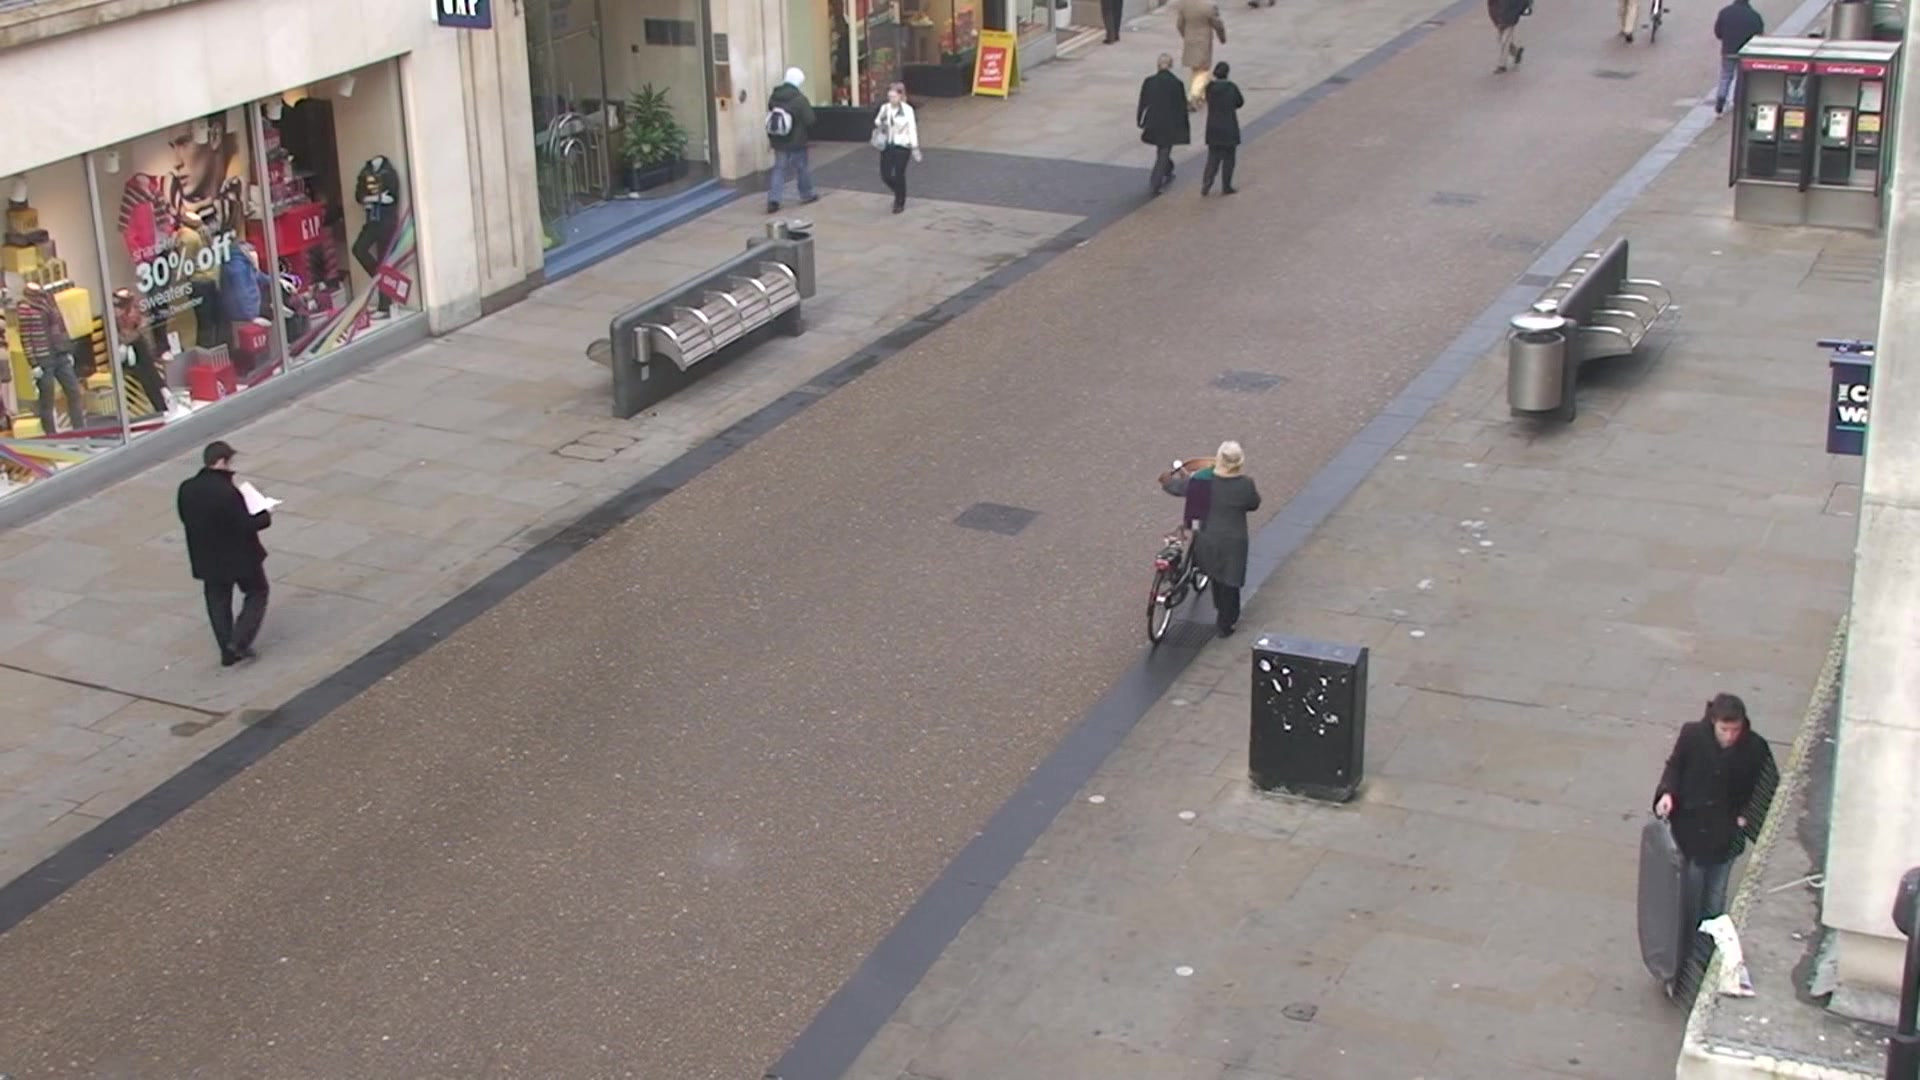person: (1651, 692, 1783, 977), (177, 442, 280, 671), (1161, 439, 1260, 640), (765, 66, 820, 219), (868, 81, 924, 215), (1136, 56, 1189, 193), (1200, 61, 1245, 197)
